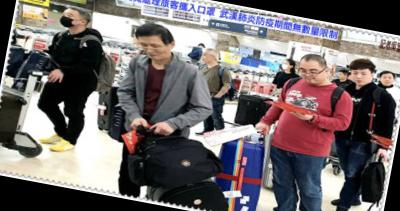with_mask: (58, 10, 81, 31), (280, 61, 290, 72)
without_mask: (137, 39, 169, 63), (296, 64, 326, 86), (348, 68, 372, 89), (380, 74, 396, 87), (200, 51, 213, 65), (337, 72, 345, 80)
